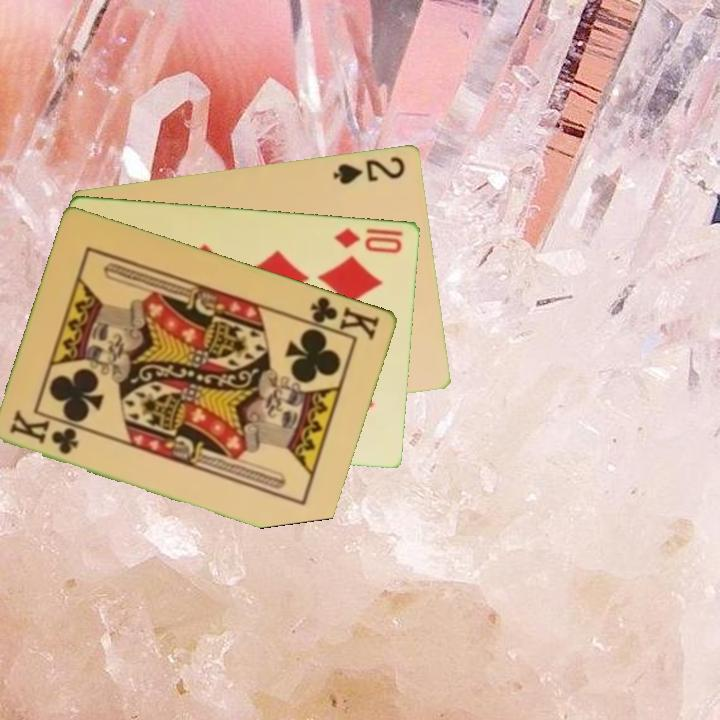10d: (331, 224, 405, 256)
2s: (330, 152, 408, 187)
Kc: (300, 292, 383, 343), (7, 408, 83, 458)
